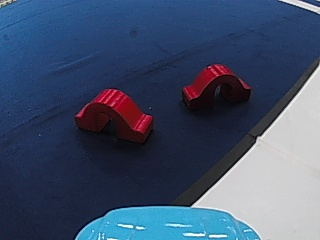bridge: (74, 86, 156, 144), (177, 60, 252, 111)
